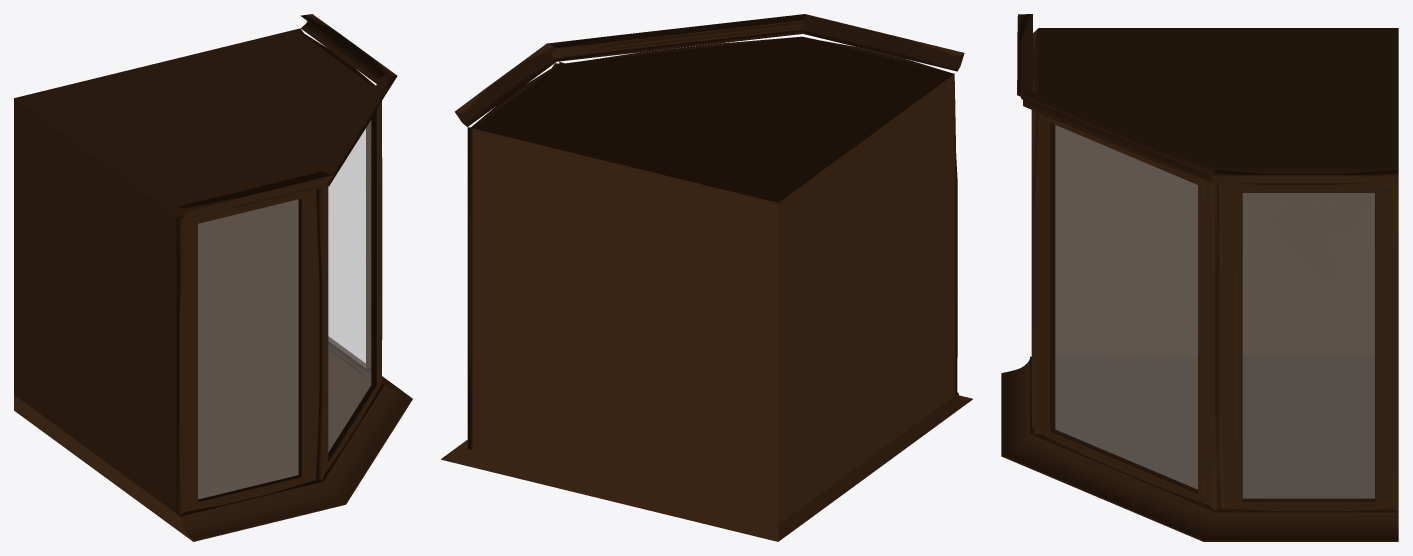
The model's file is sh-contrib-display-cabinet.glb.
3 renders of one model, left to right at view 1: azimuth 30°, elevation 25°; view 2: azimuth 150°, elevation 25°; view 3: azimuth 270°, elevation 25°, orthographic. The views are drawn at different scales.
Visible parts, largest first — view 1: DisplayCabinet_1, DisplayCabinet_25; view 2: DisplayCabinet_1; view 3: DisplayCabinet_1, DisplayCabinet_25.
Part boxes in pixels (x1=…): DisplayCabinet_1: x1=14, y1=14, x2=412, y2=541; DisplayCabinet_25: x1=198, y1=121, x2=370, y2=499; DisplayCabinet_1: x1=441, y1=14, x2=972, y2=541; DisplayCabinet_1: x1=1001, y1=14, x2=1398, y2=541; DisplayCabinet_25: x1=1055, y1=125, x2=1374, y2=498.
Bounding box in the file's own units: 1 × 1 × 1.
